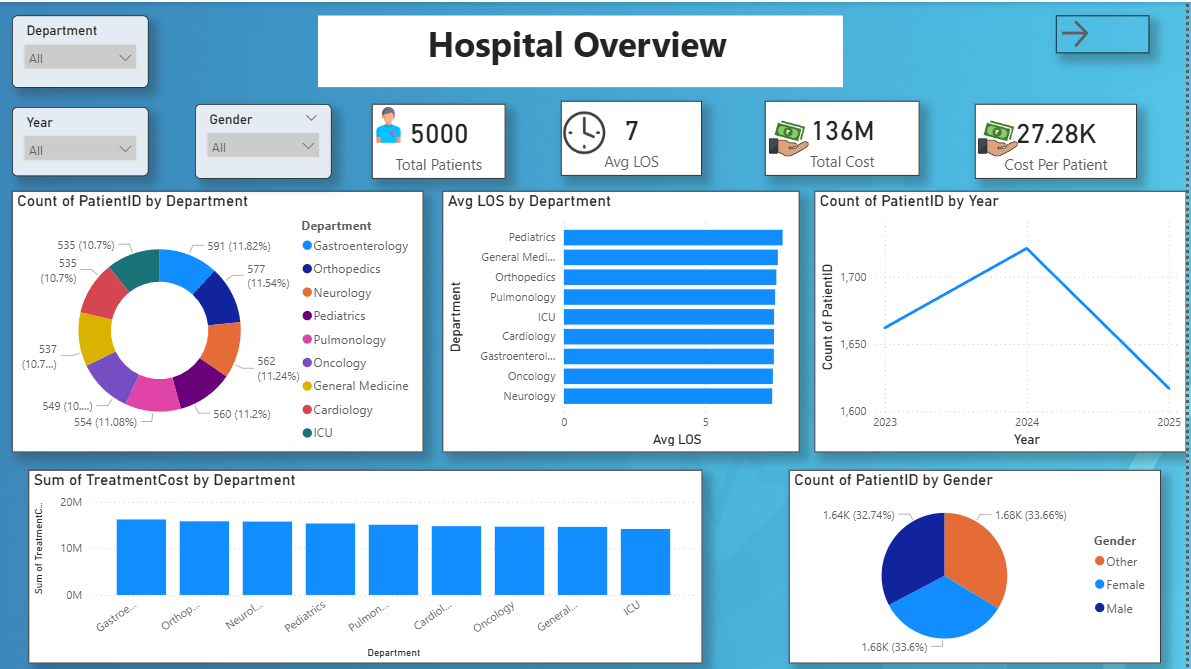

What the dashboard file says about the page in this screenshot:
{"tool":"powerbi","page":{"name":"Home(Oerview)","canvas":[1280,720],"ordinal":0},"visuals":[{"type":"textbox","box":[343.9,15.1,566.9,77.5],"z":0},{"type":"card","fields":{"Values":["healthcare_project_5000.Total Patients"]},"box":[401.6,110.1,144.1,81],"z":1000},{"type":"card","fields":{"Values":["healthcare_project_5000.Avg LOS"]},"box":[605.6,106.9,152.2,81],"z":2000},{"type":"card","fields":{"Values":["healthcare_project_5000.Total Cost"]},"box":[825.8,106.9,166.8,81],"z":3000},{"type":"card","fields":{"Values":["healthcare_project_5000.Cost Per Patient"]},"box":[1052.5,110.1,174.9,81],"z":4000},{"type":"barChart","fields":{"Category":["healthcare_project_5000.Department"],"Y":["CountNonNull(healthcare_project_5000.PatientID)"]},"box":[13,204,443.7,281.7],"z":5000},{"type":"barChart","fields":{"Category":["healthcare_project_5000.Department"],"Y":["healthcare_project_5000.Avg LOS"]},"box":[477.7,204,385.4,281.7],"z":6000},{"type":"lineChart","fields":{"Y":["CountNonNull(healthcare_project_5000.PatientID)"],"Category":["healthcare_project_5000.AdmissionDate.Variation.Date Hierarchy.Year","healthcare_project_5000.AdmissionDate.Variation.Date Hierarchy.Quarter","healthcare_project_5000.AdmissionDate.Variation.Date Hierarchy.Month","healthcare_project_5000.AdmissionDate.Variation.Date Hierarchy.Day"]},"box":[879.2,204,401.6,281.7],"z":7000},{"type":"clusteredColumnChart","fields":{"Category":["healthcare_project_5000.Department"],"Y":["Sum(healthcare_project_5000.TreatmentCost)"]},"box":[30.8,505.2,727,208.9],"z":8000},{"type":"slicer","fields":{"Values":["healthcare_project_5000.Year"]},"box":[13,113.3,147.3,74.5],"z":9000},{"type":"slicer","fields":{"Values":["healthcare_project_5000.Department"]},"box":[13,14.6,147.3,77.7],"z":10000},{"type":"slicer","fields":{"Values":["healthcare_project_5000.Gender"]},"box":[210.5,110.1,147.3,81],"z":11000},{"type":"donutChart","fields":{"Category":["healthcare_project_5000.Gender"],"Y":["CountNonNull(healthcare_project_5000.PatientID)"]},"box":[851.7,505.2,401.6,208.9],"z":12000},{"type":"image","box":[361.1,113.3,116.6,38.9],"z":13000},{"type":"image","box":[1033.1,127.9,87.4,38.9],"z":14000},{"type":"image","box":[804.8,127.9,93.9,38.9],"z":15000},{"type":"image","box":[579.7,115,102,51.8],"z":16000},{"type":"actionButton","box":[1139.9,14.6,100.4,40.5],"z":17000}]}

Visuals, with their boxes in screenshot pixels (x1, y1, x2, y2), scaled from the page's 1280x720 canvas onto the 1191x669 screenshot:
textbox: (x1=320, y1=14, x2=847, y2=86)
card - healthcare_project_5000.Total Patients: (x1=374, y1=102, x2=508, y2=178)
card - healthcare_project_5000.Avg LOS: (x1=563, y1=99, x2=705, y2=175)
card - healthcare_project_5000.Total Cost: (x1=768, y1=99, x2=924, y2=175)
card - healthcare_project_5000.Cost Per Patient: (x1=979, y1=102, x2=1142, y2=178)
barChart - healthcare_project_5000.Department x CountNonNull(healthcare_project_5000.PatientID): (x1=12, y1=190, x2=425, y2=451)
barChart - healthcare_project_5000.Department x healthcare_project_5000.Avg LOS: (x1=444, y1=190, x2=803, y2=451)
lineChart - CountNonNull(healthcare_project_5000.PatientID) x healthcare_project_5000.AdmissionDate.Variation.Date Hierarchy.Year: (x1=818, y1=190, x2=1190, y2=451)
clusteredColumnChart - healthcare_project_5000.Department x Sum(healthcare_project_5000.TreatmentCost): (x1=29, y1=469, x2=705, y2=664)
slicer - healthcare_project_5000.Year: (x1=12, y1=105, x2=149, y2=174)
slicer - healthcare_project_5000.Department: (x1=12, y1=14, x2=149, y2=86)
slicer - healthcare_project_5000.Gender: (x1=196, y1=102, x2=333, y2=178)
donutChart - healthcare_project_5000.Gender x CountNonNull(healthcare_project_5000.PatientID): (x1=792, y1=469, x2=1166, y2=664)
image: (x1=336, y1=105, x2=444, y2=141)
image: (x1=961, y1=119, x2=1043, y2=155)
image: (x1=749, y1=119, x2=836, y2=155)
image: (x1=539, y1=107, x2=634, y2=155)
actionButton: (x1=1061, y1=14, x2=1154, y2=51)
